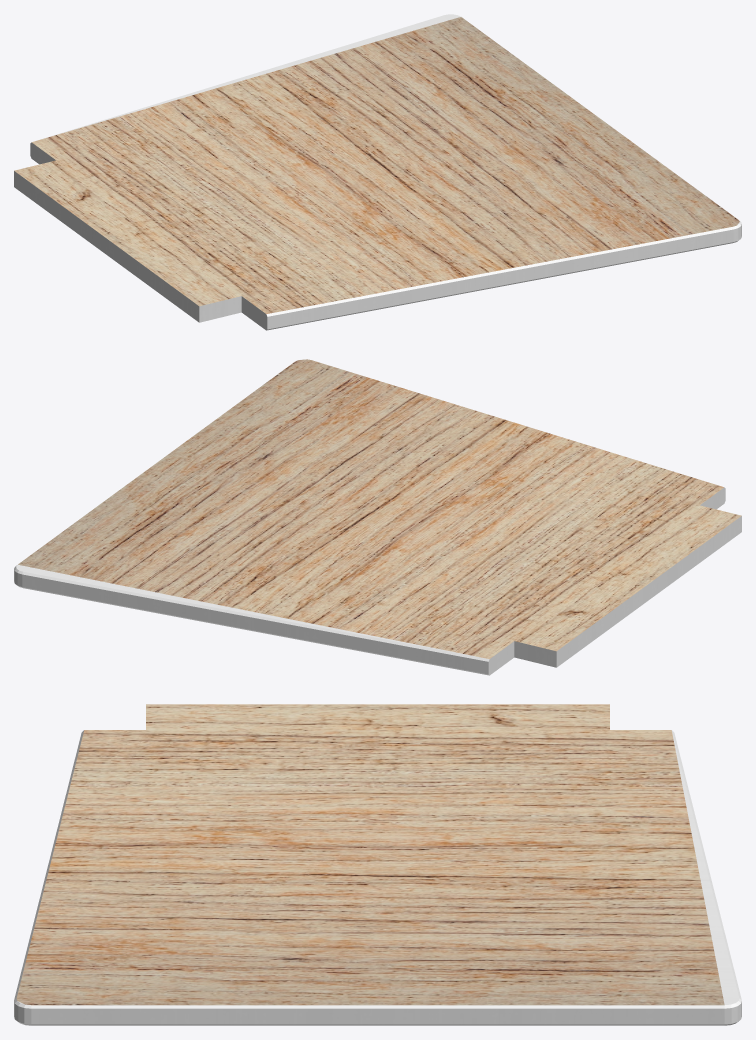
Rendered from Ikea_stefan_bottom.obj.
3 renders of one model, top to bottom at view 1: azimuth 30°, elevation 25°; view 2: azimuth 150°, elevation 25°; view 3: azimuth 270°, elevation 25°, orthographic. The views are drawn at different scales.
Parts seen in each view (by area): view 1: Ikea_Stefan_Bottom_IkeaStefanBottom; view 2: Ikea_Stefan_Bottom_IkeaStefanBottom; view 3: Ikea_Stefan_Bottom_IkeaStefanBottom.
Boxes of the visible parts, <box> form: Ikea_Stefan_Bottom_IkeaStefanBottom: <box>14,14,741,330</box>; Ikea_Stefan_Bottom_IkeaStefanBottom: <box>14,359,741,675</box>; Ikea_Stefan_Bottom_IkeaStefanBottom: <box>14,704,741,1025</box>.
Size of the model in its own units: 0.41 by 0.013 by 0.4176.
